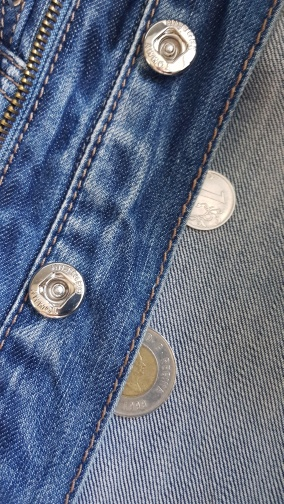coin: (109, 324, 180, 419), (183, 169, 238, 232)
